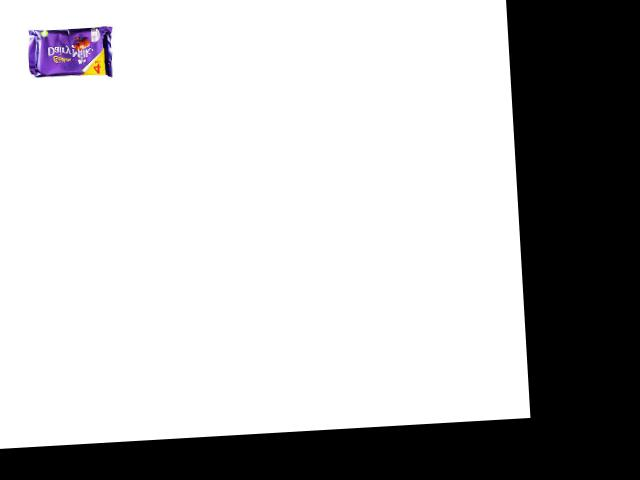chocolate: (23, 18, 124, 81)
